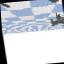drone: (50, 12, 64, 26)
